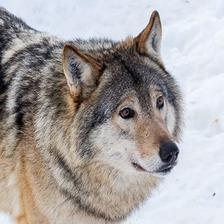WOLF: (0, 9, 185, 223)
